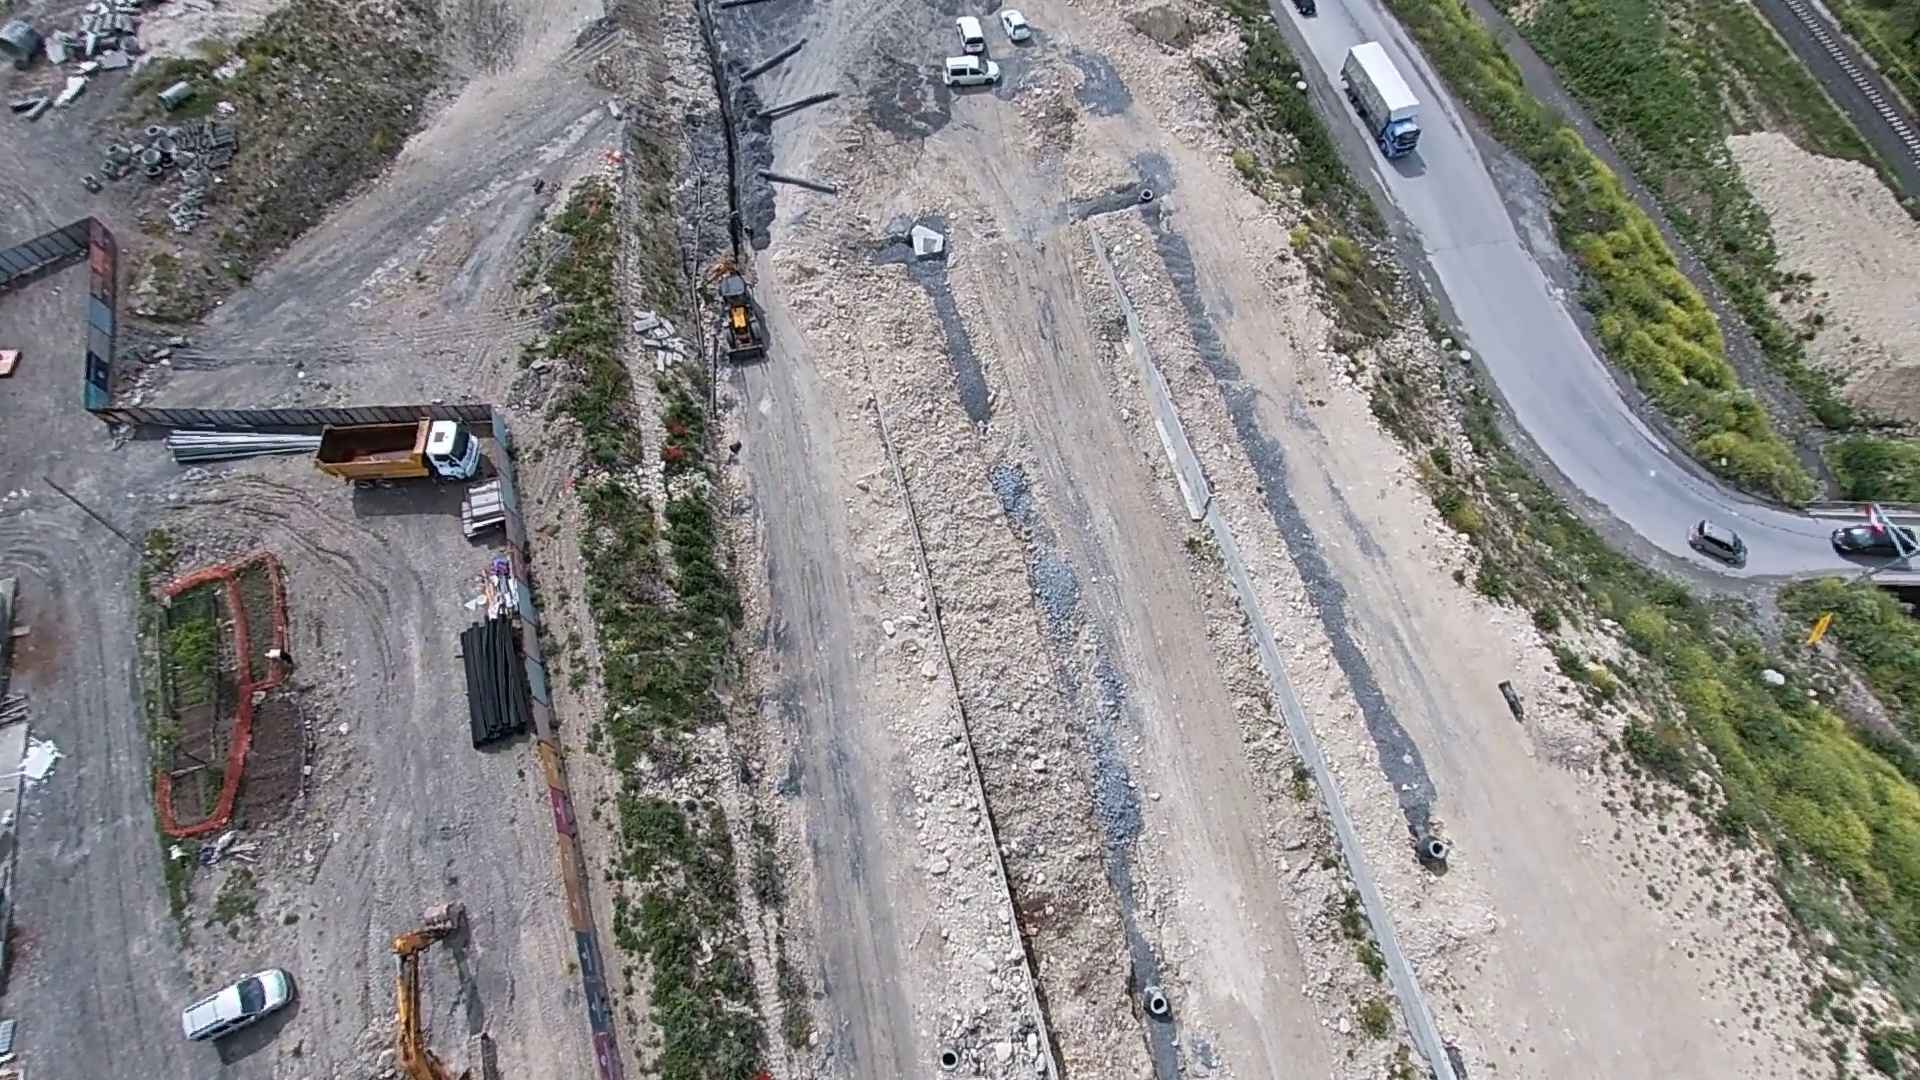araba: (170, 953, 302, 1052), (1832, 517, 1920, 562), (1692, 517, 1753, 571), (938, 53, 1006, 90), (956, 12, 990, 57), (996, 3, 1033, 44)
ismakinesi: (381, 895, 479, 1080)
kamyon: (309, 413, 485, 491), (1333, 38, 1425, 164)
traktor: (707, 255, 767, 367)
